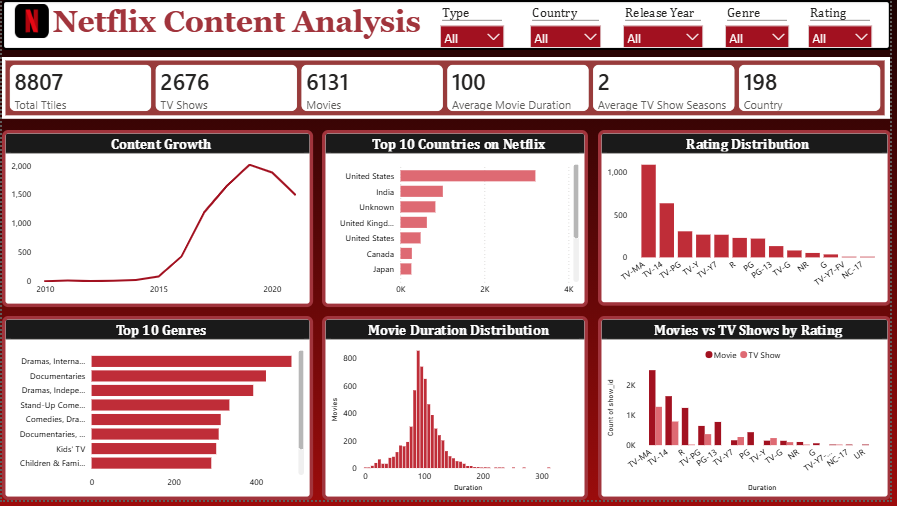

What the dashboard file says about the page in this screenshot:
{"tool":"powerbi","page":{"name":"Page 1","canvas":[1280,720],"ordinal":0},"visuals":[{"type":"cardVisual","fields":{"Data":["Count(Netflix.show_id)","Netflix.TV Shows","Netflix.Movies","Netflix.Average Movie Duration","Netflix.Average TV Show Seasons","Count(Netflix.country)"]},"box":[0,82.1,1280,89],"z":0},{"type":"textbox","box":[0,0,1280.2,72],"z":1000},{"type":"image","box":[11,6,63.4,49],"z":2000},{"type":"lineChart","title":"Content Growth ","fields":{"Y":["Count(Netflix.title)"],"Category":["Netflix.date_added.Variation.Date Hierarchy.Year"]},"box":[0,187.2,447.8,254.9],"z":3000},{"type":"clusteredBarChart","title":"Top 10 Countries on Netflix","fields":{"Category":["Netflix.country"],"Y":["CountNonNull(Netflix.show_id)"]},"box":[460.8,187.2,383,254.9],"z":4000},{"type":"clusteredBarChart","title":"Top 10 Genres","fields":{"Category":["Netflix.listed_in"],"Y":["CountNonNull(Netflix.show_id)"]},"box":[0,455,447.8,265],"z":5000},{"type":"clusteredColumnChart","title":"Rating Distribution","fields":{"Category":["Netflix.rating"],"Y":["CountNonNull(Netflix.title)"]},"box":[858.2,187.2,421.9,253.4],"z":6000},{"type":"clusteredColumnChart","title":"Movie Duration Distribution","fields":{"Y":["Netflix.Movies"],"Category":["Netflix.duration number (bins)"]},"box":[460.8,455,383,265],"z":7000},{"type":"slicer","title":"Type","fields":{"Values":["Netflix.type"]},"box":[625,5.8,103.7,61.9],"z":7001},{"type":"slicer","title":"Type","fields":{"Values":["Netflix.country"]},"box":[754.6,5.8,113.8,61.9],"z":7003},{"type":"slicer","title":"Type","fields":{"Values":["Netflix.rating"]},"box":[1154.9,5.8,103.7,61.9],"z":7004},{"type":"slicer","title":"Type","fields":{"Values":["Netflix.release_year"]},"box":[888.5,5.8,126.7,61.9],"z":7005},{"type":"slicer","title":"Type","fields":{"Values":["Netflix.listed_in"]},"box":[1035.4,5.8,103.7,61.9],"z":7006},{"type":"clusteredColumnChart","title":"Movies vs TV Shows by Rating","fields":{"Y":["CountNonNull(Netflix.show_id)"],"Category":["Netflix.rating"],"Series":["Netflix.type"]},"box":[858.2,455,421.9,265],"z":7007}]}

Visuals, with their boxes in screenshot pixels (x1, y1, x2, y2), scaled from the page's 1280x720 canvas onto the 897x506 screenshot:
cardVisual - Count(Netflix.show_id) x Netflix.TV Shows: {"left": 0, "top": 58, "right": 896, "bottom": 120}
textbox: {"left": 0, "top": 0, "right": 896, "bottom": 51}
image: {"left": 8, "top": 4, "right": 52, "bottom": 39}
"Content Growth " lineChart: {"left": 0, "top": 132, "right": 314, "bottom": 311}
"Top 10 Countries on Netflix" clusteredBarChart: {"left": 323, "top": 132, "right": 591, "bottom": 311}
"Top 10 Genres" clusteredBarChart: {"left": 0, "top": 320, "right": 314, "bottom": 505}
"Rating Distribution" clusteredColumnChart: {"left": 601, "top": 132, "right": 896, "bottom": 310}
"Movie Duration Distribution" clusteredColumnChart: {"left": 323, "top": 320, "right": 591, "bottom": 505}
"Type" slicer: {"left": 438, "top": 4, "right": 511, "bottom": 48}
"Type" slicer: {"left": 529, "top": 4, "right": 609, "bottom": 48}
"Type" slicer: {"left": 809, "top": 4, "right": 882, "bottom": 48}
"Type" slicer: {"left": 623, "top": 4, "right": 711, "bottom": 48}
"Type" slicer: {"left": 726, "top": 4, "right": 798, "bottom": 48}
"Movies vs TV Shows by Rating" clusteredColumnChart: {"left": 601, "top": 320, "right": 896, "bottom": 505}
